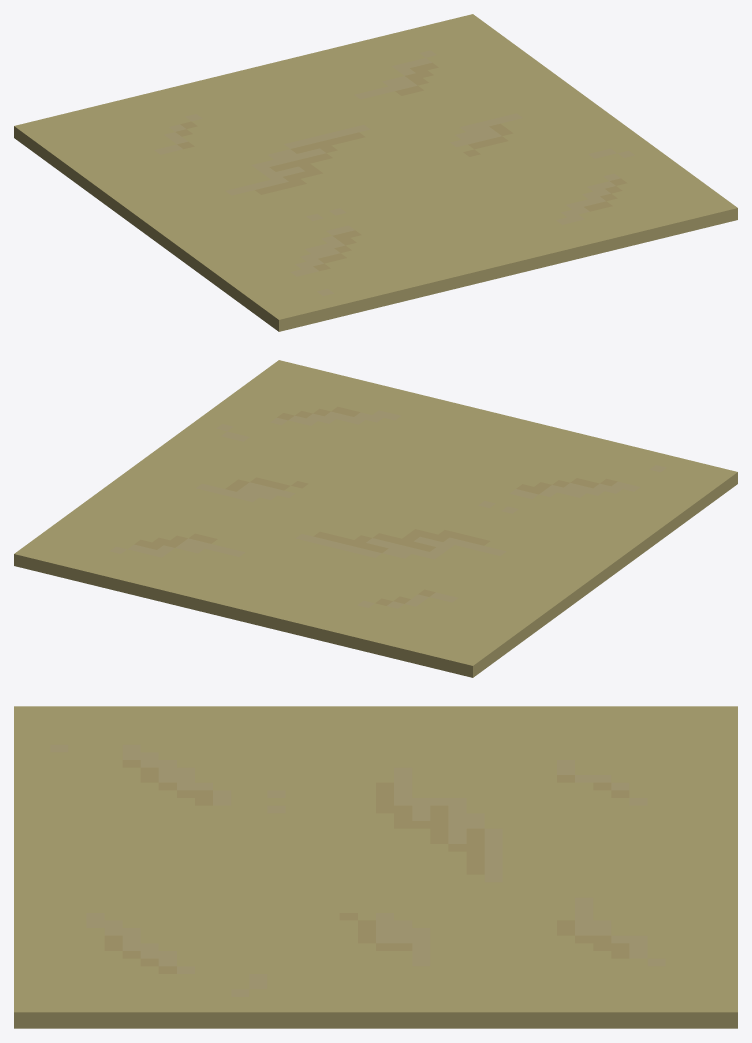
Rendered from wall_kitchen.obj.
3 views of the same model, one above another, from view 1: azimuth 30°, elevation 25°; view 2: azimuth 150°, elevation 25°; view 3: azimuth 270°, elevation 25° (orthographic). The views are drawn at different scales.
Size of the model in its own units: 4 by 0.1 by 4.
Materials: 1 (1 with a texture image).
